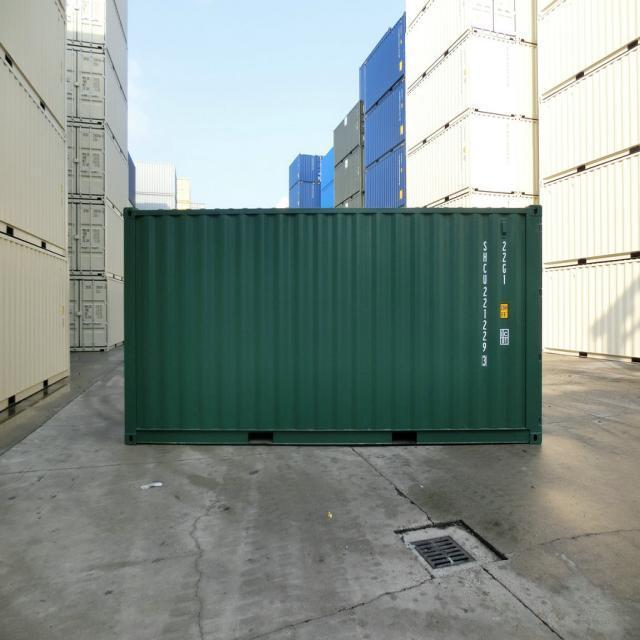container_number_v: (475, 235, 494, 377)
